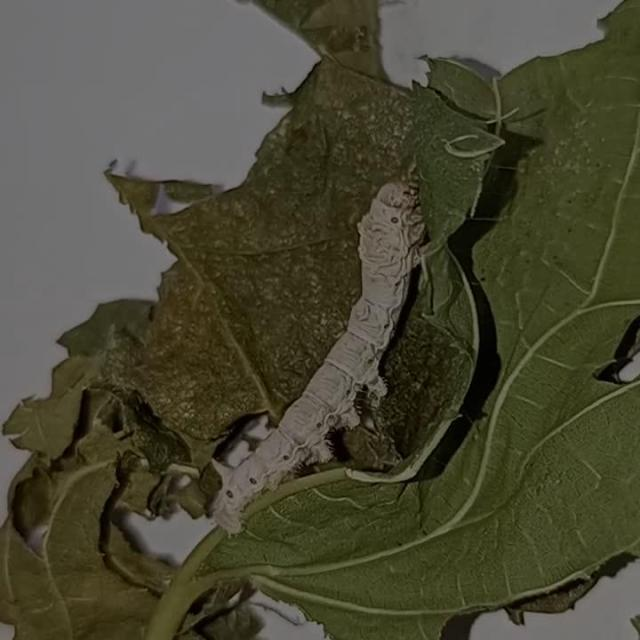Healthy: (181, 147, 501, 600)
